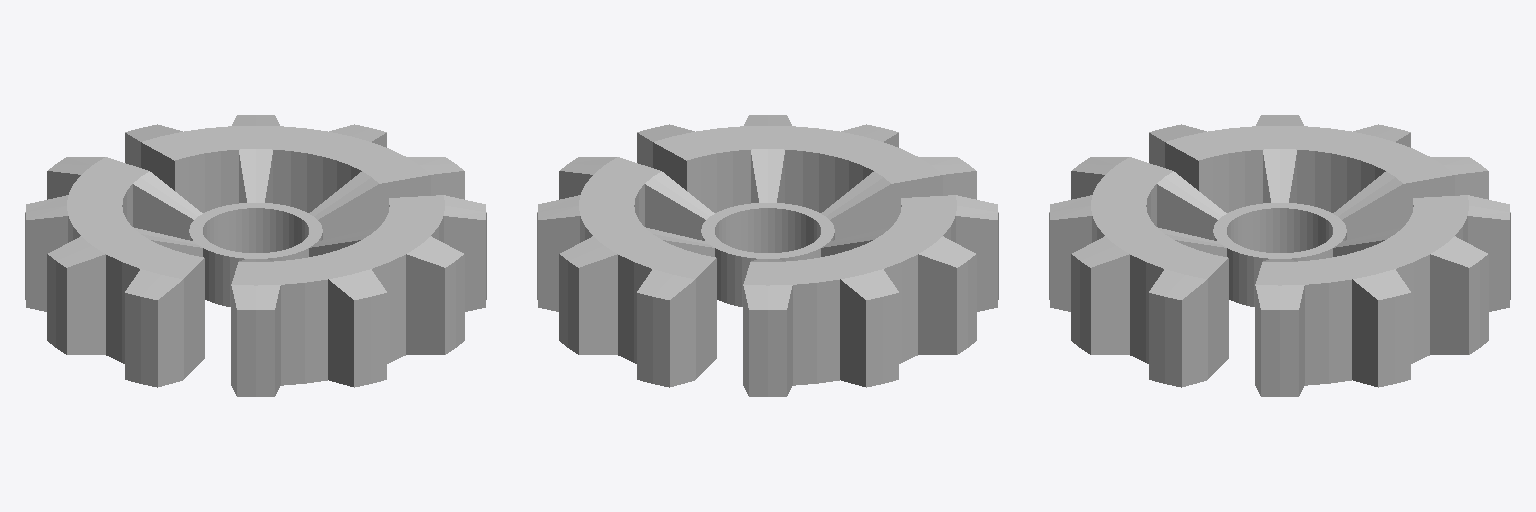
The model's file is CopperGearDisplayMesh.obj.
3 views of the same model, side by side, from view 1: azimuth 30°, elevation 25°; view 2: azimuth 150°, elevation 25°; view 3: azimuth 270°, elevation 25° (orthographic).
Parts seen in each view (by area): view 1: CopperGearDisplayMesh_Copper_Gear; view 2: CopperGearDisplayMesh_Copper_Gear; view 3: CopperGearDisplayMesh_Copper_Gear.
Boxes of the visible parts, x1,y1,x2,y2 form: CopperGearDisplayMesh_Copper_Gear: [25, 115, 486, 396]; CopperGearDisplayMesh_Copper_Gear: [537, 115, 998, 396]; CopperGearDisplayMesh_Copper_Gear: [1049, 115, 1510, 396].
Bounding box in the file's own units: 2.07 × 0.5 × 2.07.